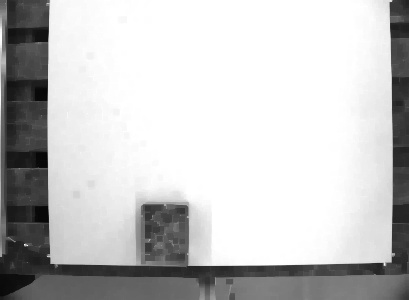klts: (136, 199, 193, 269)
